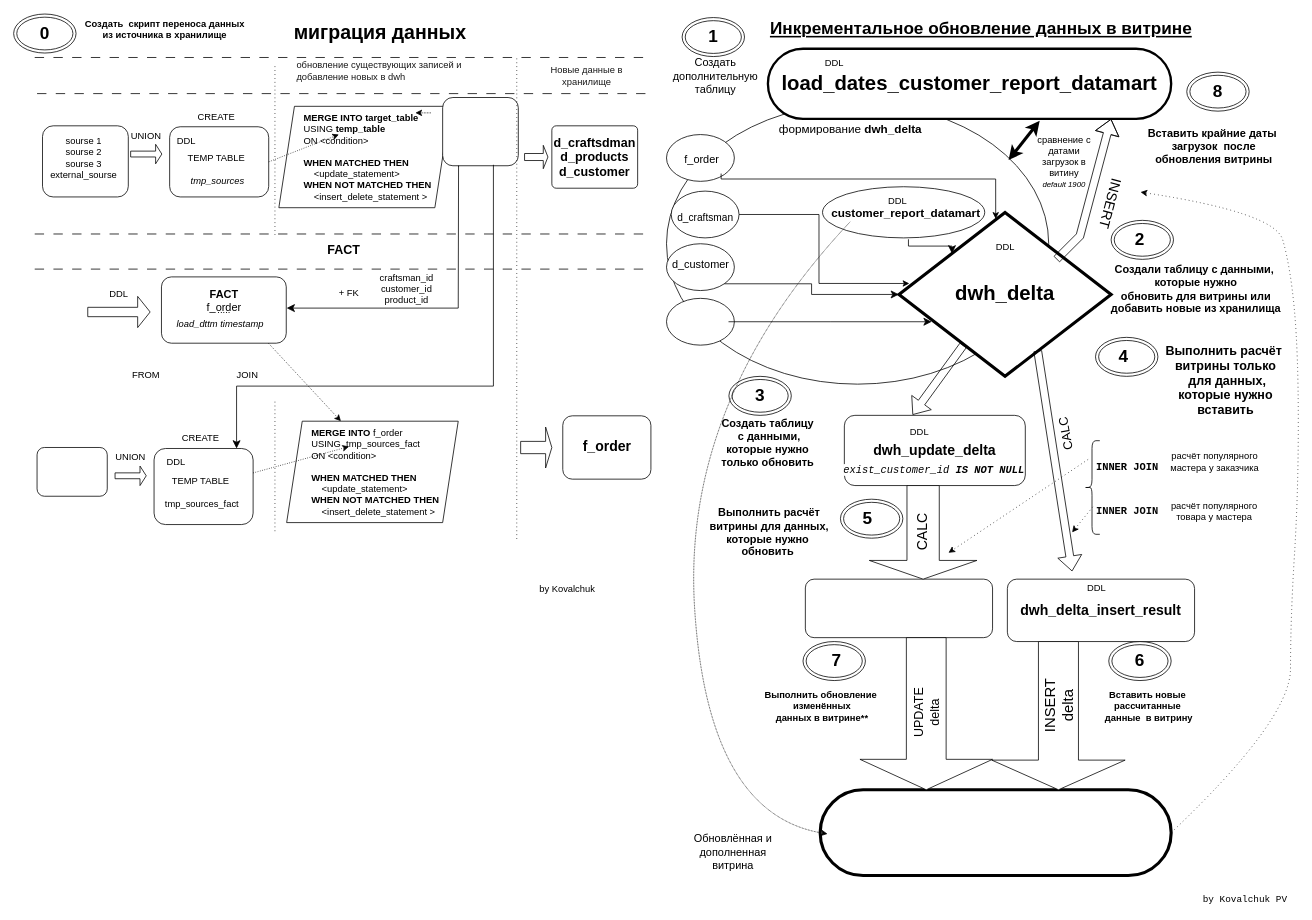
This 1312x920 diagram has some shape labels left out. Here are the shapes that lost their labels. From the top down, the centre of each, then its label:
pixel 153 73: Извлечение данных из источников и размещение их во временной таблице.
pixel 480 131: Dimension d_craftsdman d_products d_customer
pixel 700 321: d_product
pixel 71 471: sourse 1 sourse 2 sourse 3
pixel 899 608: dwh_delta_update_result
pixel 995 832: customer _report_datamart
